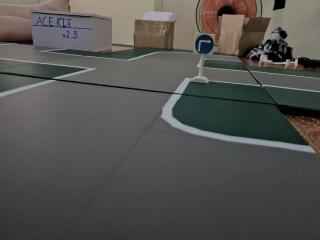right: (192, 28, 218, 55)
